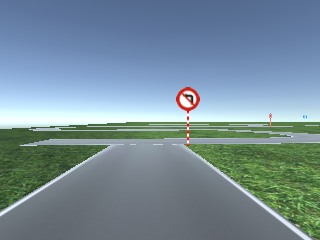-5: (1, 183, 320, 239)
NoLeft: (175, 86, 201, 111)
